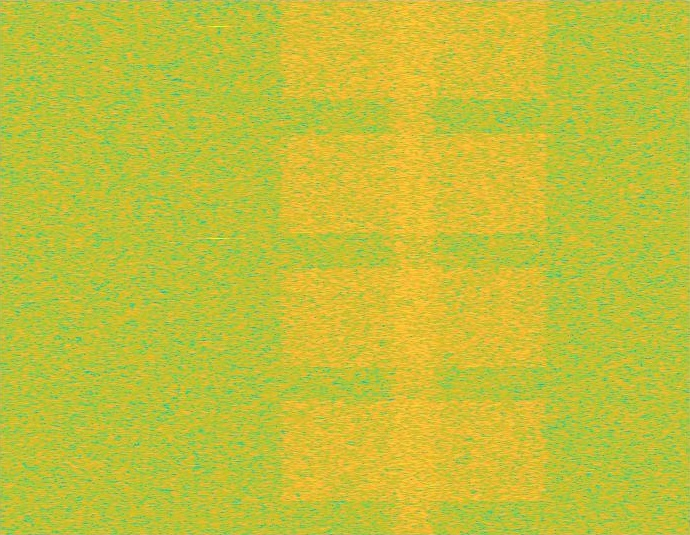5G: (276, 0, 552, 534)
DSSS: (383, 0, 445, 534)
Radar: (212, 0, 226, 534)
